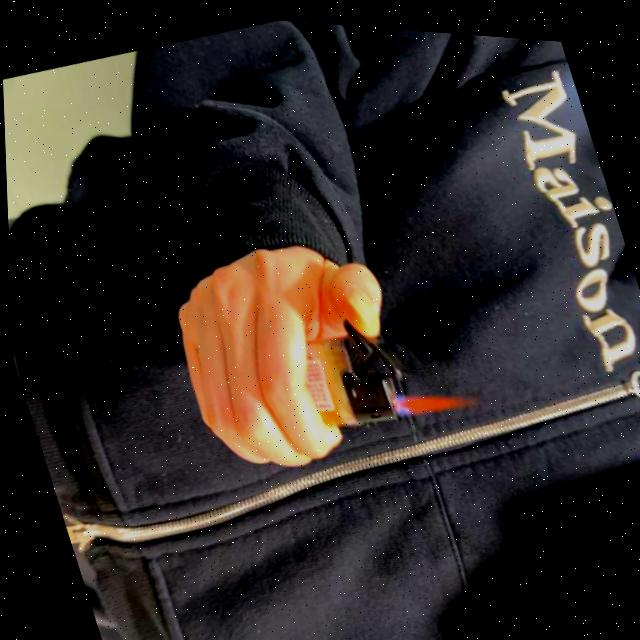Fire: (386, 366, 478, 420)
